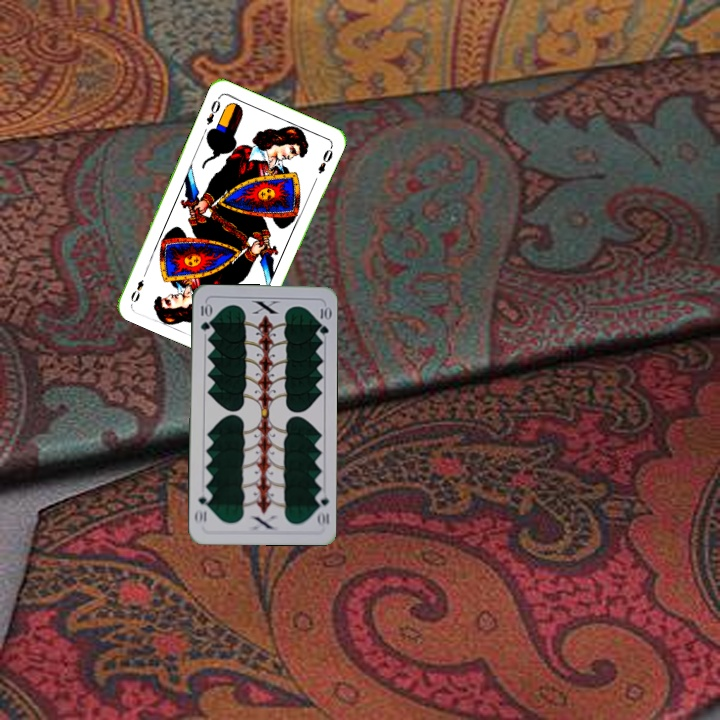EO: (202, 93, 223, 127)
G10: (312, 488, 332, 529), (197, 299, 212, 333)
